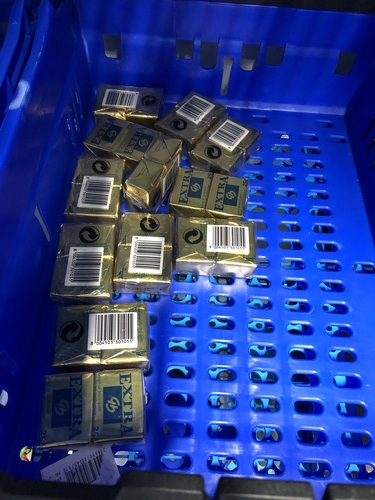beurre: (87, 370, 149, 447), (106, 301, 149, 367), (173, 213, 217, 271), (213, 167, 251, 223)
